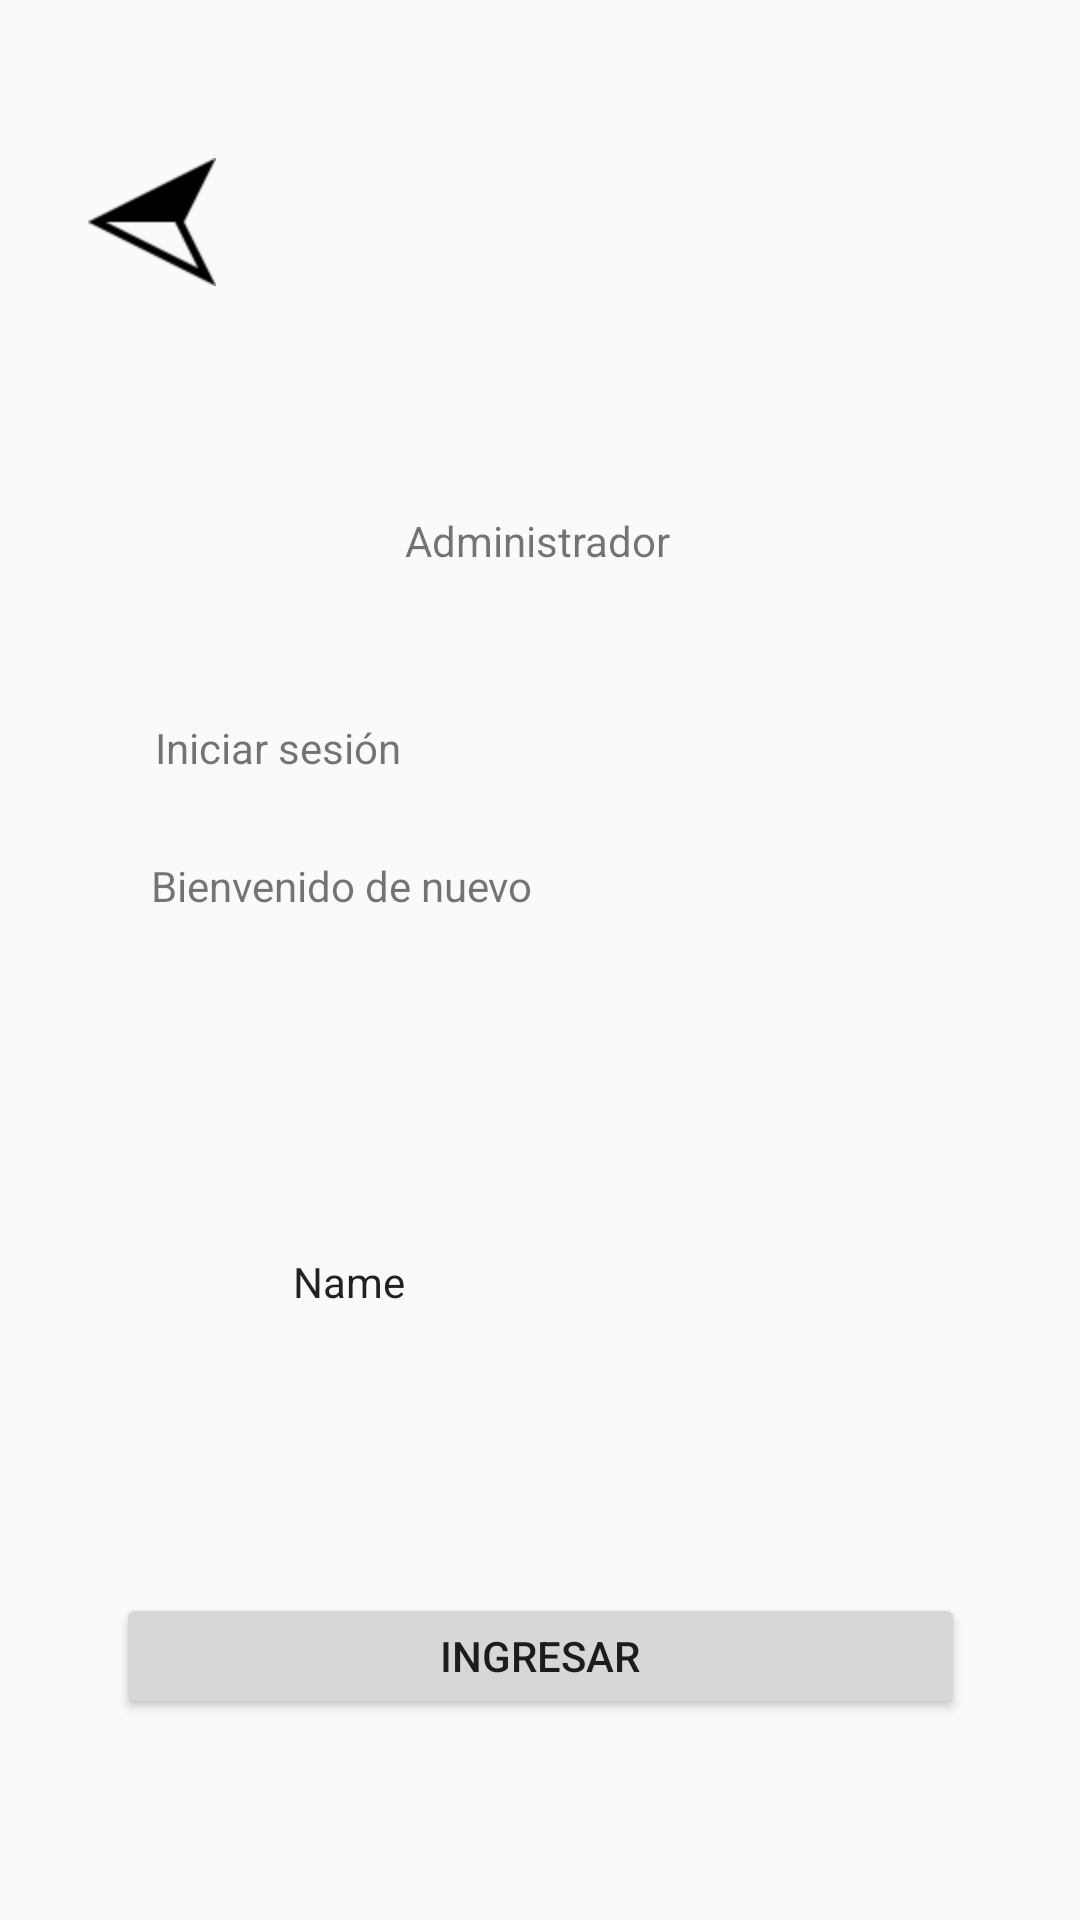

Named icons in this screenshot (1080*1920) and their centers, (x=x, y=y):
regresaricon: (x=152, y=222)
